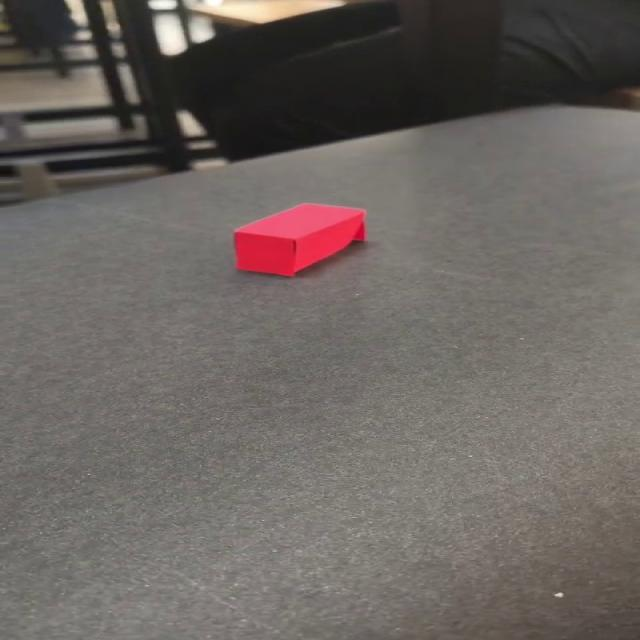red block: (232, 202, 367, 277)
